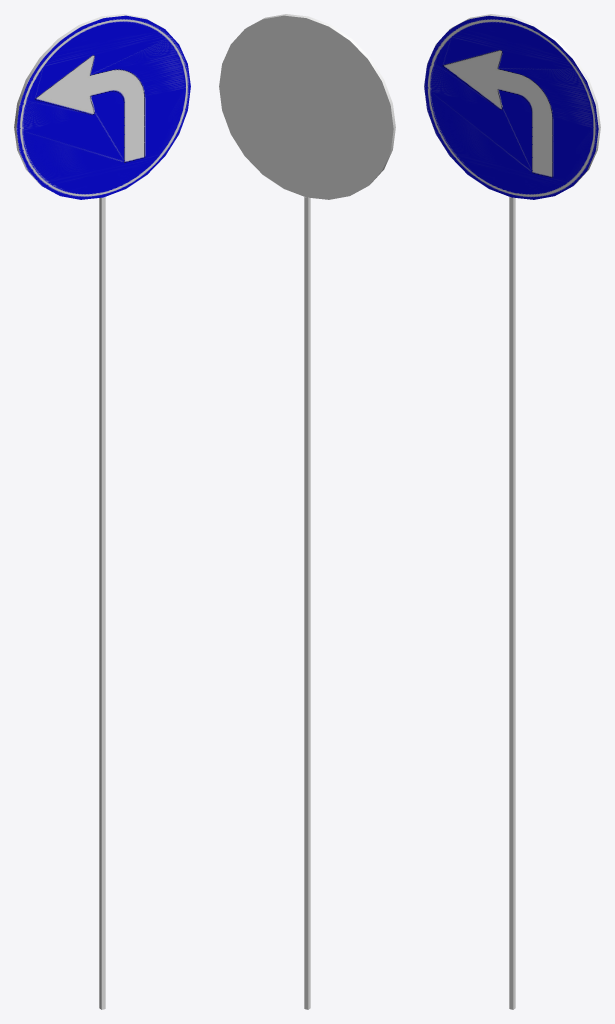
File: trafik_levha_ileriden_saga_mecburi_yol.obj
3 renders of one model, left to right at view 1: azimuth 30°, elevation 25°; view 2: azimuth 150°, elevation 25°; view 3: azimuth 330°, elevation 25°, orthographic.
Parts seen in each view (by area): view 1: Mesh2 Group3 Group1 Model, Mesh1 Group2 Group1 Model; view 2: Mesh2 Group3 Group1 Model, Mesh1 Group2 Group1 Model; view 3: Mesh2 Group3 Group1 Model, Mesh1 Group2 Group1 Model.
Boxes of the visible parts, bbox=[...] form: Mesh2 Group3 Group1 Model: bbox=[14, 14, 190, 199]; Mesh1 Group2 Group1 Model: bbox=[99, 197, 105, 1009]; Mesh2 Group3 Group1 Model: bbox=[219, 14, 395, 199]; Mesh1 Group2 Group1 Model: bbox=[304, 197, 310, 1009]; Mesh2 Group3 Group1 Model: bbox=[424, 14, 600, 199]; Mesh1 Group2 Group1 Model: bbox=[509, 197, 515, 1009].
Size of the model in its own units: 450 by 2442 by 10.
Materials: 3 (1 with a texture image).
